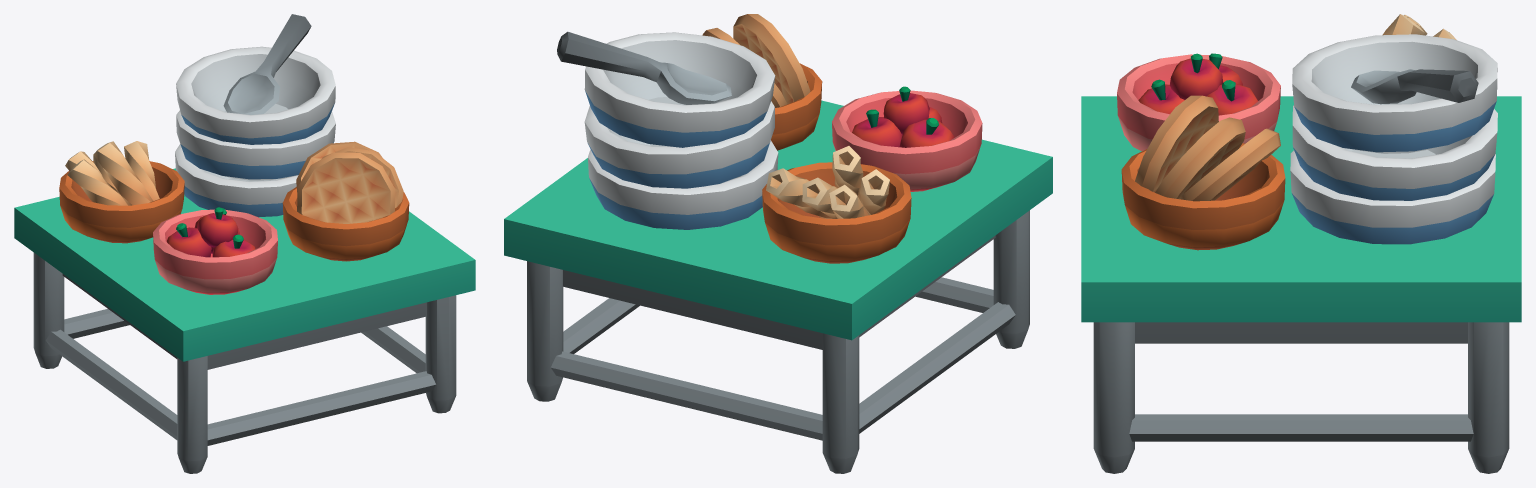
File: kitchentable_B_decorated.obj
The picture shows the model from 3 angles, left to right: view 1: azimuth 30°, elevation 25°; view 2: azimuth 150°, elevation 25°; view 3: azimuth 270°, elevation 25°; orthographic projection. The views are drawn at different scales.
Visible parts, largest first — view 1: kitchentable_B_decorated_Cube.461; view 2: kitchentable_B_decorated_Cube.461; view 3: kitchentable_B_decorated_Cube.461.
Part boxes in pixels (<box>): kitchentable_B_decorated_Cube.461: <box>14,14,475,473</box>; kitchentable_B_decorated_Cube.461: <box>504,14,1052,473</box>; kitchentable_B_decorated_Cube.461: <box>1081,14,1521,473</box>.
Bounding box in the file's own units: 2 × 1.95 × 2.
1 material, 1 textured.
